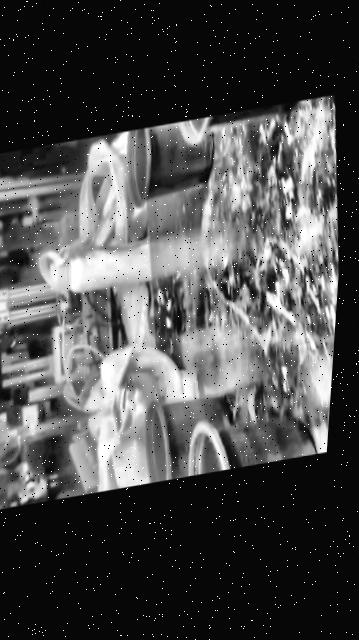pot: (119, 116, 217, 211), (187, 419, 316, 477), (144, 396, 229, 484), (175, 100, 309, 142)
